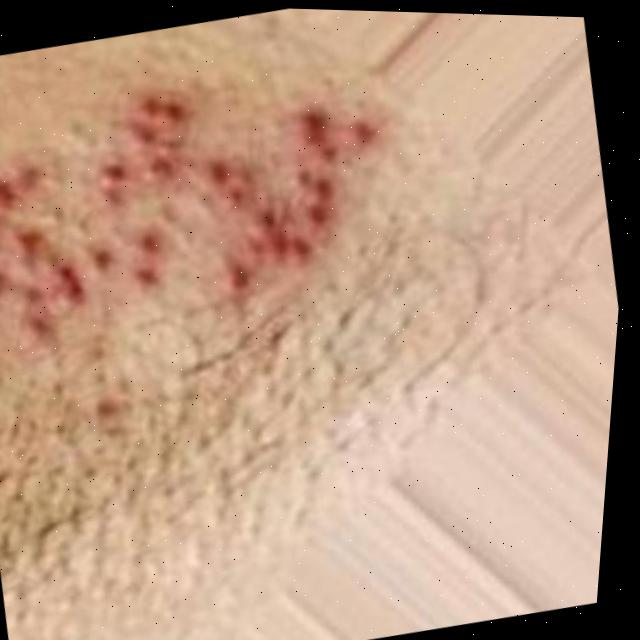Shingles: (0, 48, 427, 425)
